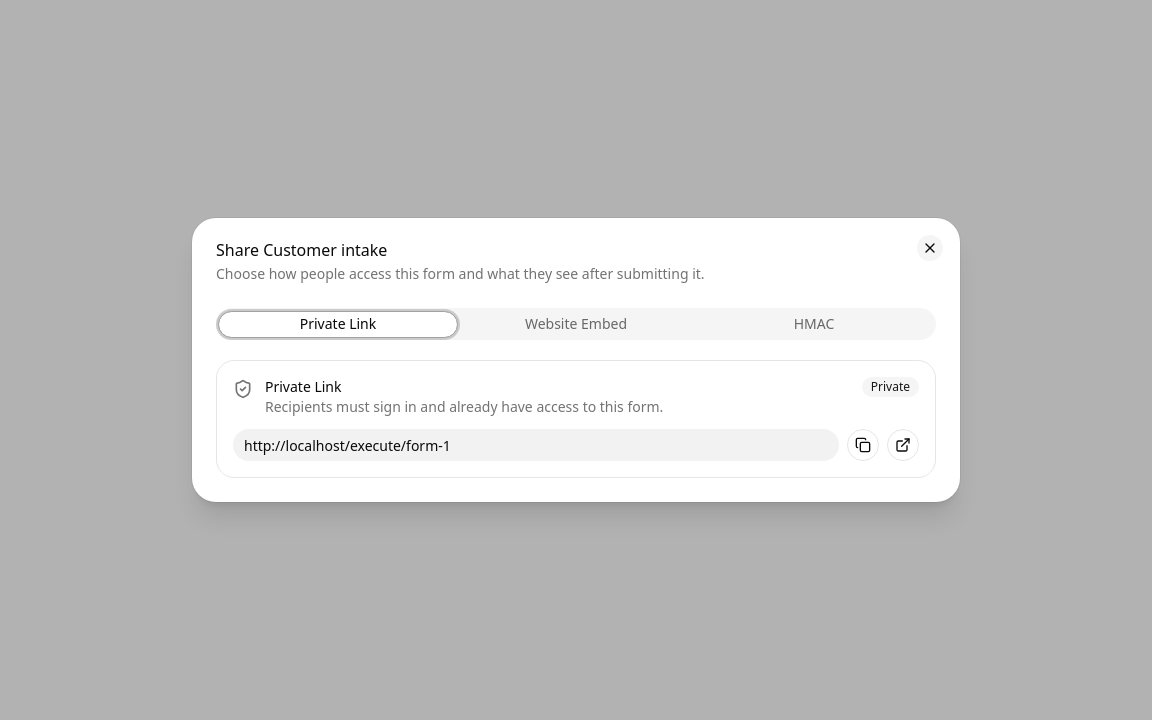
Test: FormShareDialog › loads HMAC secret management in its own tab
The width and height of the screenshot is (1152, 720).
Expected: the field named "Private form link" is shown, [233, 429, 839, 461]
Step 1. Click the tab "HMAC" → click(814, 324), box [695, 312, 933, 336]
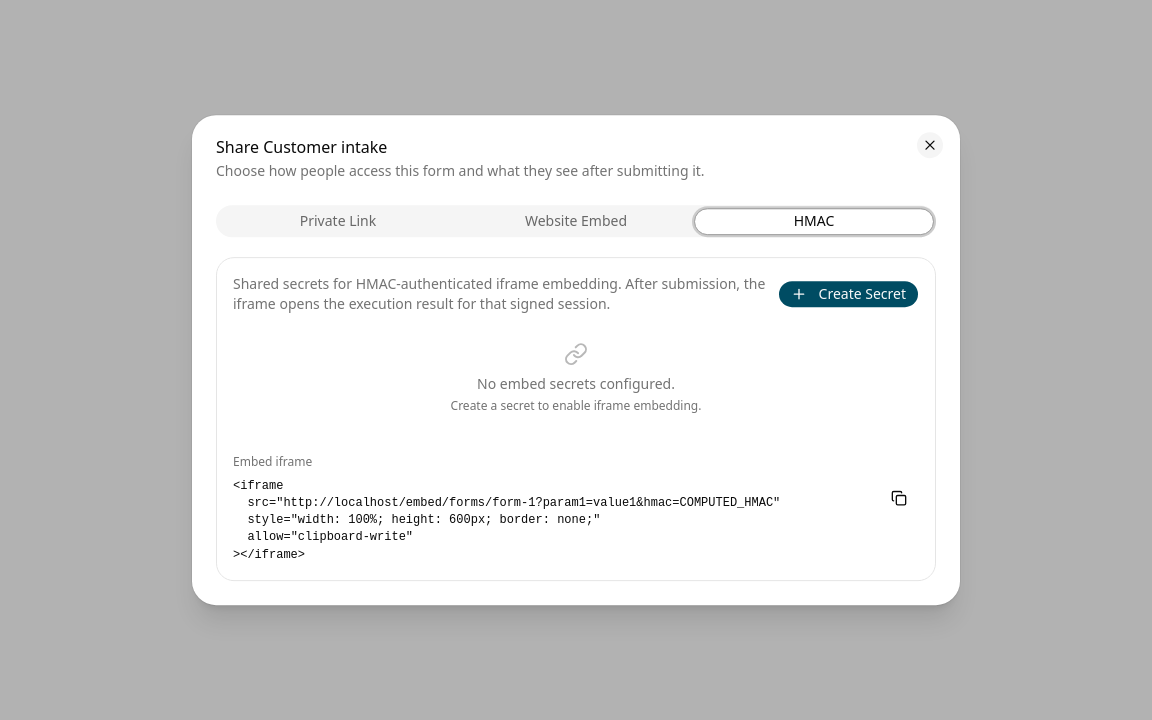
Result: the text "No embed secrets configured." is shown at [477, 374, 675, 393]
